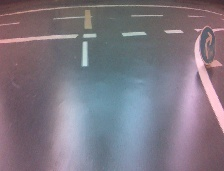turn right ahead sign: (195, 25, 217, 65)
